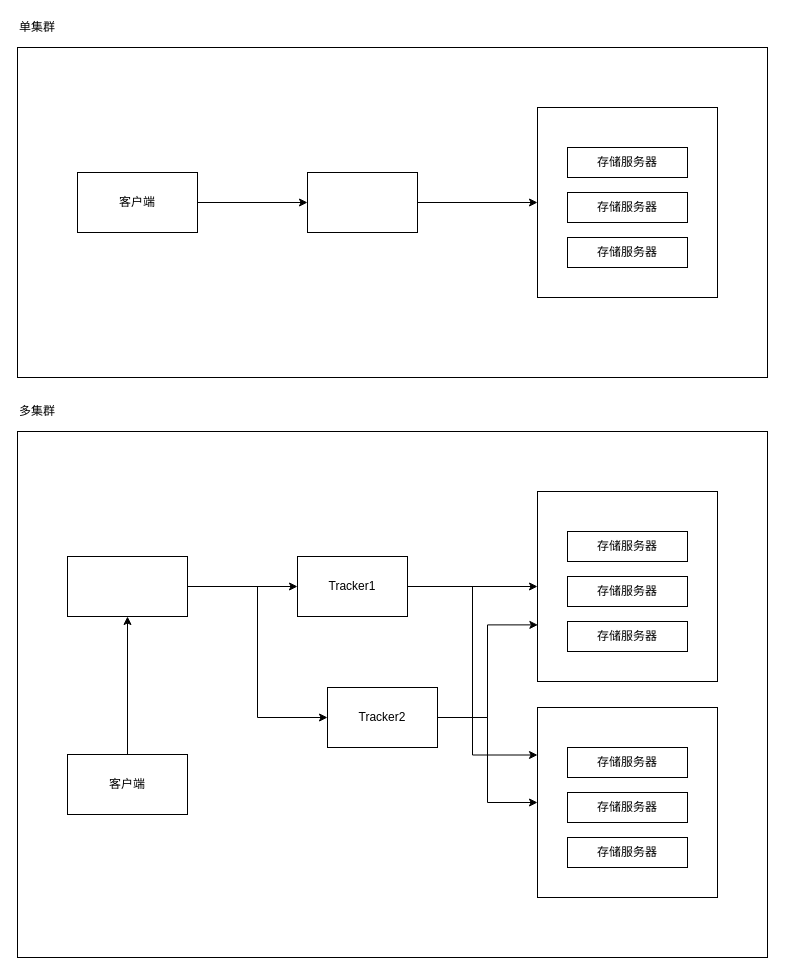
The diagram is 785 pixels wide and 975 high, and some of its shapes have lost their labels. Here are the shapes that lost their labels. From the top down, the centre of each, then its label:
the point at 362,202: Tracker
the point at 127,586: nginx或网关
